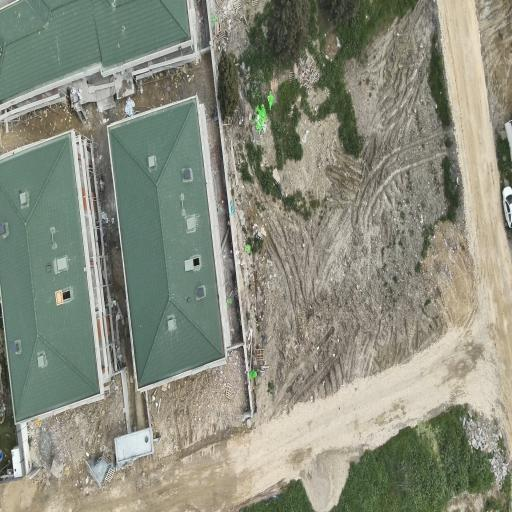car: (503, 187, 511, 227)
